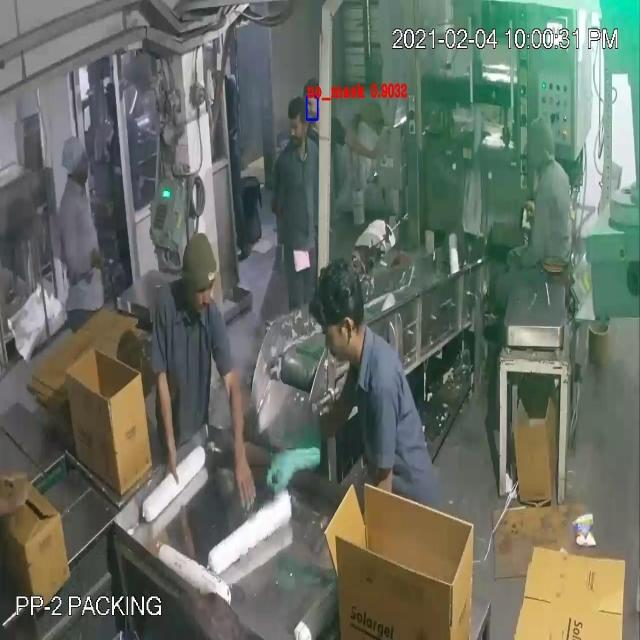No_Gloves: (16, 46, 367, 492)
